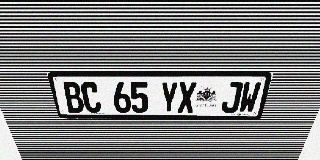5: (130, 82, 149, 113)
6: (112, 82, 132, 113)
B: (61, 82, 85, 113)
C: (80, 82, 102, 113)
J: (221, 82, 243, 113)
W: (238, 82, 262, 113)
X: (177, 82, 197, 113)
Y: (160, 82, 178, 113)
